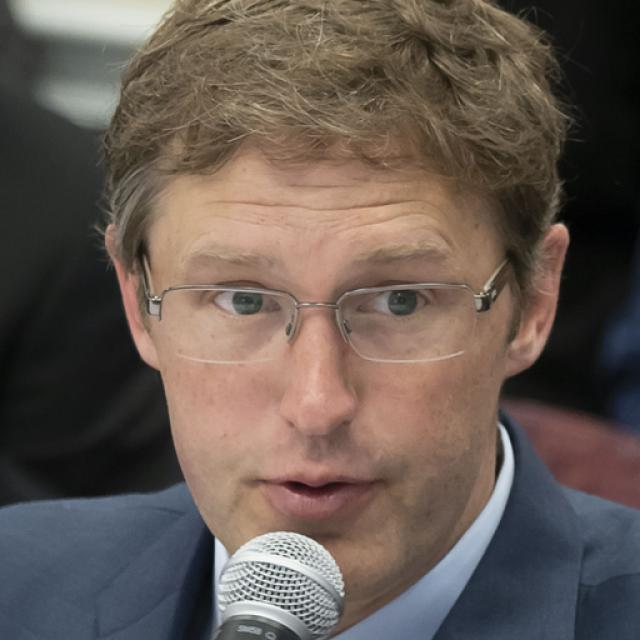Wrinkle: (204, 194, 450, 219), (344, 208, 443, 233)
